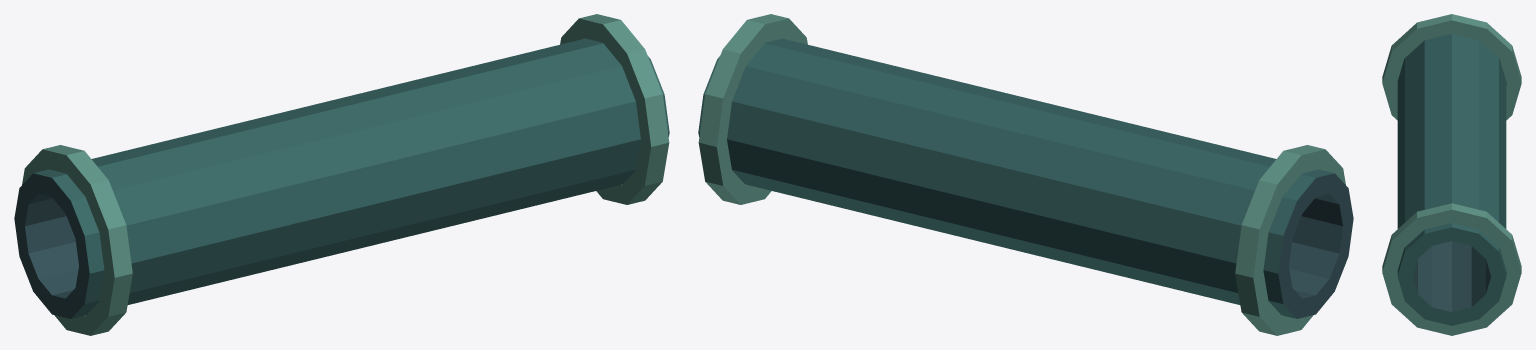
File: pipe-straight.glb
3 views of the same model, side by side, from view 1: azimuth 30°, elevation 25°; view 2: azimuth 150°, elevation 25°; view 3: azimuth 270°, elevation 25° (orthographic). The views are drawn at different scales.
Visible parts, largest first — view 1: pipe-straight__body; view 2: pipe-straight__body; view 3: pipe-straight__body.
Boxes of the visible parts, x1,y1,x2,y2 form: pipe-straight__body: (14, 14, 669, 335); pipe-straight__body: (698, 14, 1353, 335); pipe-straight__body: (1382, 14, 1521, 335).
Bounding box in the file's own units: 1.6 × 0.4608 × 0.4608.
